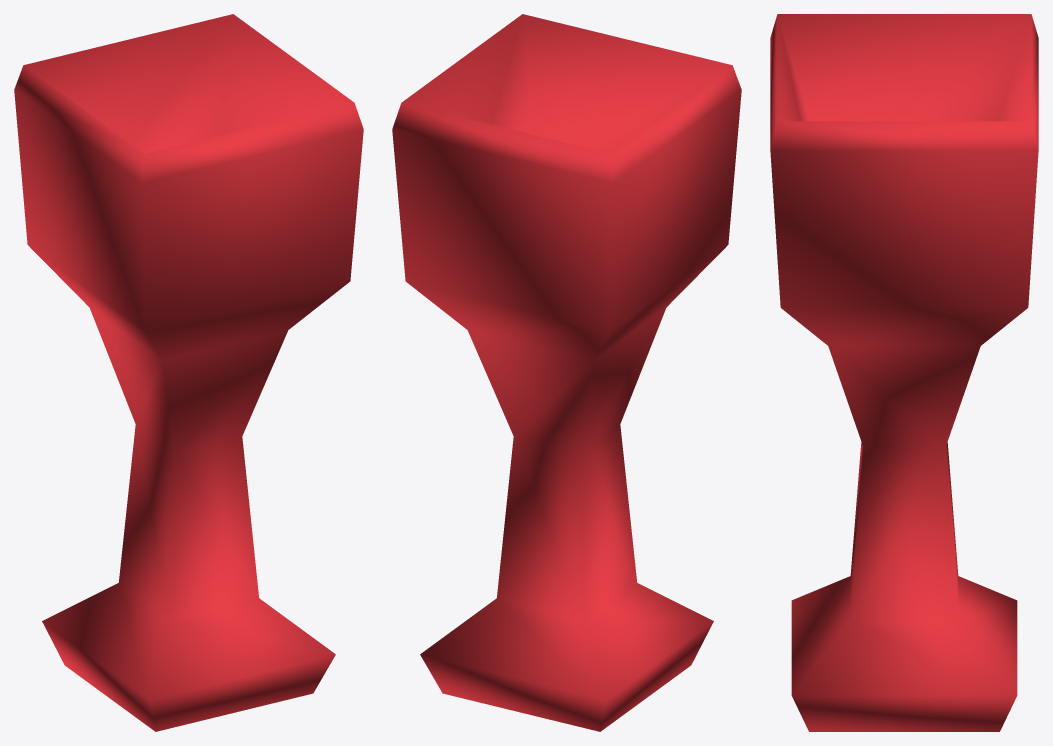
Rendered from Potion2.fbx.
3 views of the same model, side by side, from view 1: azimuth 30°, elevation 25°; view 2: azimuth 150°, elevation 25°; view 3: azimuth 270°, elevation 25° (orthographic). The views are drawn at different scales.
Visible parts, largest first — view 1: Cube.003; view 2: Cube.003; view 3: Cube.003.
Boxes of the visible parts, x1,y1,x2,y2 form: Cube.003: (14,14,363,731); Cube.003: (392,14,741,731); Cube.003: (770,14,1038,731).
Size of the model in its own units: 183 by 470 by 183.
